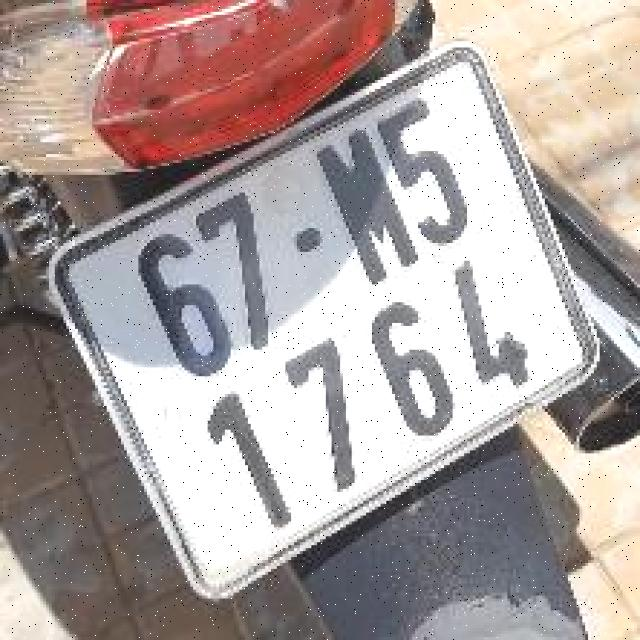1: (184, 380, 308, 548)
4: (424, 237, 550, 413)
5: (363, 89, 492, 263)
6: (118, 219, 251, 402), (348, 289, 471, 461)
7: (183, 181, 305, 367), (264, 320, 379, 507)
M: (300, 117, 435, 304)
